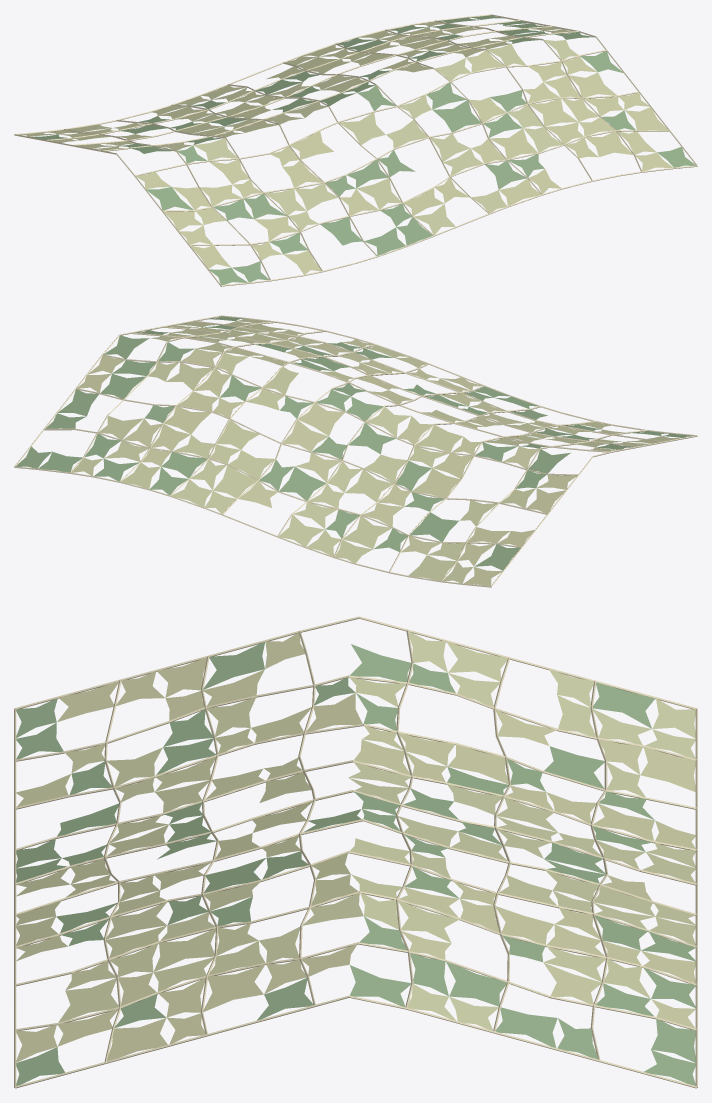
File: Camo_Cloth_Ridge.fbx
3 renders of one model, top to bottom at view 1: azimuth 30°, elevation 25°; view 2: azimuth 150°, elevation 25°; view 3: azimuth 270°, elevation 25°, orthographic. The views are drawn at different scales.
Visible parts, largest first — view 1: Camo_Cloth_Ridge; view 2: Camo_Cloth_Ridge; view 3: Camo_Cloth_Ridge.
Boxes of the visible parts, bbox=[...] form: Camo_Cloth_Ridge: bbox=[14, 14, 697, 286]; Camo_Cloth_Ridge: bbox=[14, 315, 697, 587]; Camo_Cloth_Ridge: bbox=[14, 616, 697, 1088].
Bounding box in the file's own units: 401 × 65.44 × 301.
